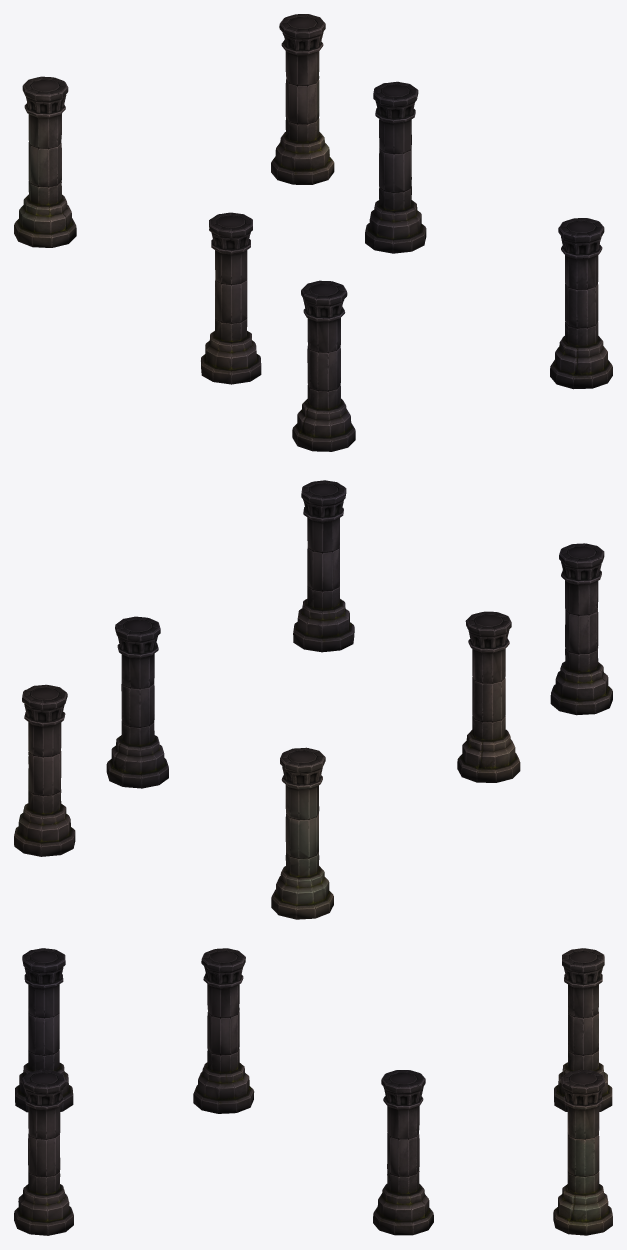
The model's file is dg_pillar_intact.glb.
The picture shows the model from 3 angles, top to bottom: view 1: azimuth 30°, elevation 25°; view 2: azimuth 150°, elevation 25°; view 3: azimuth 270°, elevation 25°; orthographic projection. The views are drawn at different scales.
Visible parts, largest first — view 1: COL_DGP_PILLAR_INTACT; view 2: COL_DGP_PILLAR_INTACT; view 3: COL_DGP_PILLAR_INTACT.
Part boxes in pixels (x1=…): COL_DGP_PILLAR_INTACT: x1=14, y1=14, x2=612, y2=451; COL_DGP_PILLAR_INTACT: x1=14, y1=480, x2=612, y2=919; COL_DGP_PILLAR_INTACT: x1=14, y1=948, x2=612, y2=1235.
Size of the model in its own units: 7.76 by 3.55 by 13.33.
Materials: 1 (1 with a texture image).
